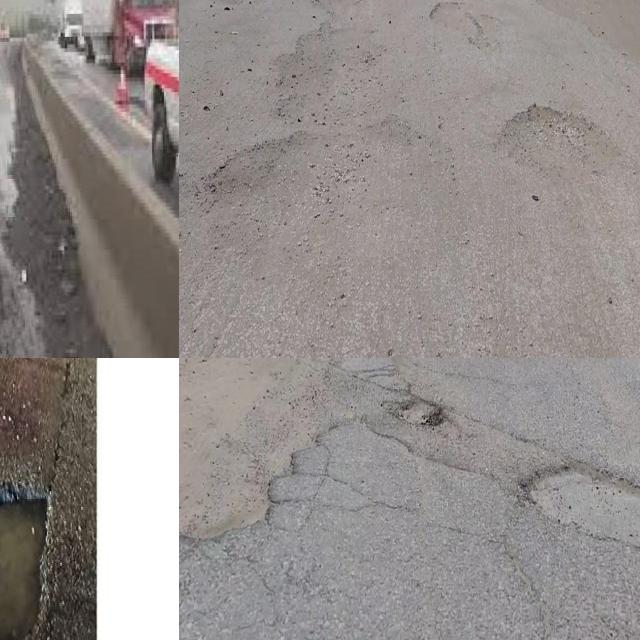Pothole: (522, 461, 640, 554), (492, 99, 616, 186), (179, 463, 291, 545), (0, 485, 49, 640), (429, 0, 486, 47), (384, 393, 444, 430)
